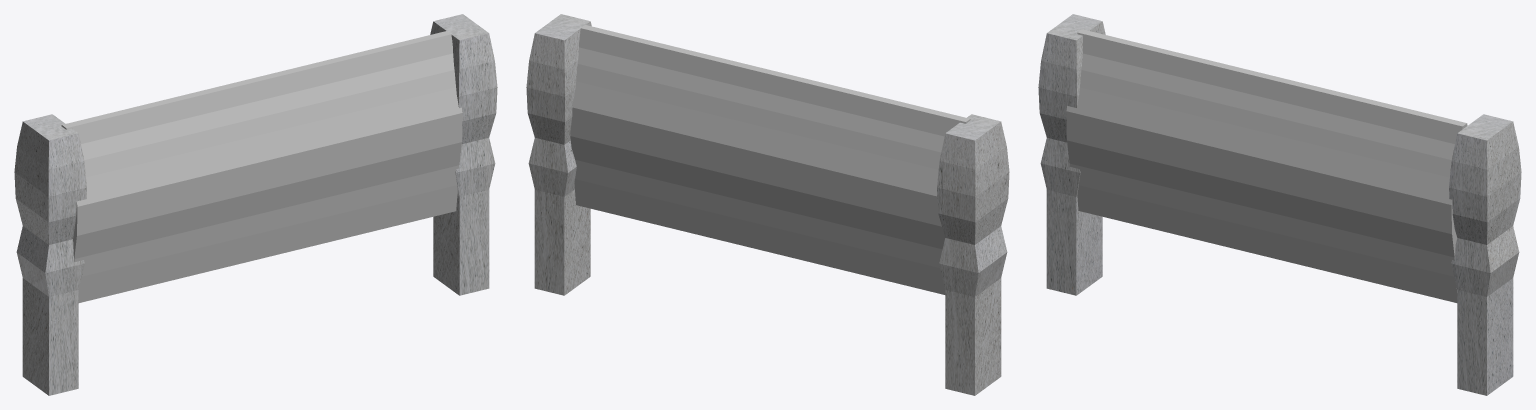
Rendered from Overhead-14-5-2019.fbx.
3 views of the same model, side by side, from view 1: azimuth 30°, elevation 25°; view 2: azimuth 150°, elevation 25°; view 3: azimuth 330°, elevation 25° (orthographic).
Parts seen in each view (by area): view 1: Cube, Cube.002, Cube.001; view 2: Cube, Cube.002, Cube.001; view 3: Cube, Cube.001, Cube.002.
Boxes of the visible parts, x1,y1,x2,y2 form: Cube: (61, 31, 462, 302); Cube.002: (14, 114, 86, 395); Cube.001: (430, 14, 497, 295); Cube: (570, 25, 970, 294); Cube.002: (937, 114, 1009, 395); Cube.001: (526, 14, 591, 295); Cube: (1066, 29, 1467, 302); Cube.001: (1449, 114, 1521, 395); Cube.002: (1038, 14, 1105, 295).
Bounding box in the file's own units: 837 × 457 × 111.
